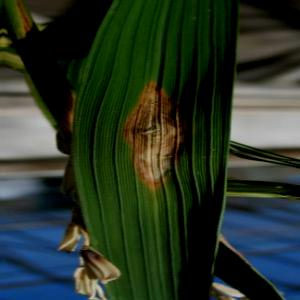1 RiceBlast: (107, 65, 201, 197)
